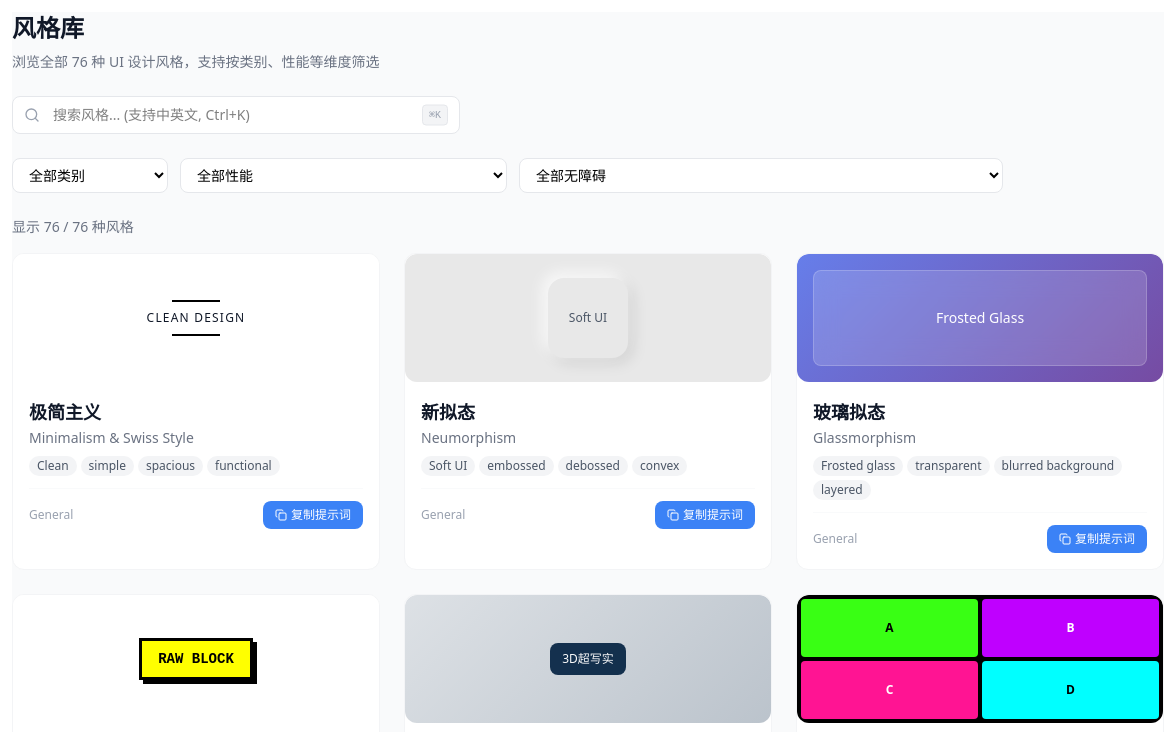
Test: StyleGallery › shows clear filter button when filter is active
The width and height of the screenshot is (1164, 732).
Select "General (49)" in the dropdown named "按类别筛选" at (90, 176), box [12,158,168,193]
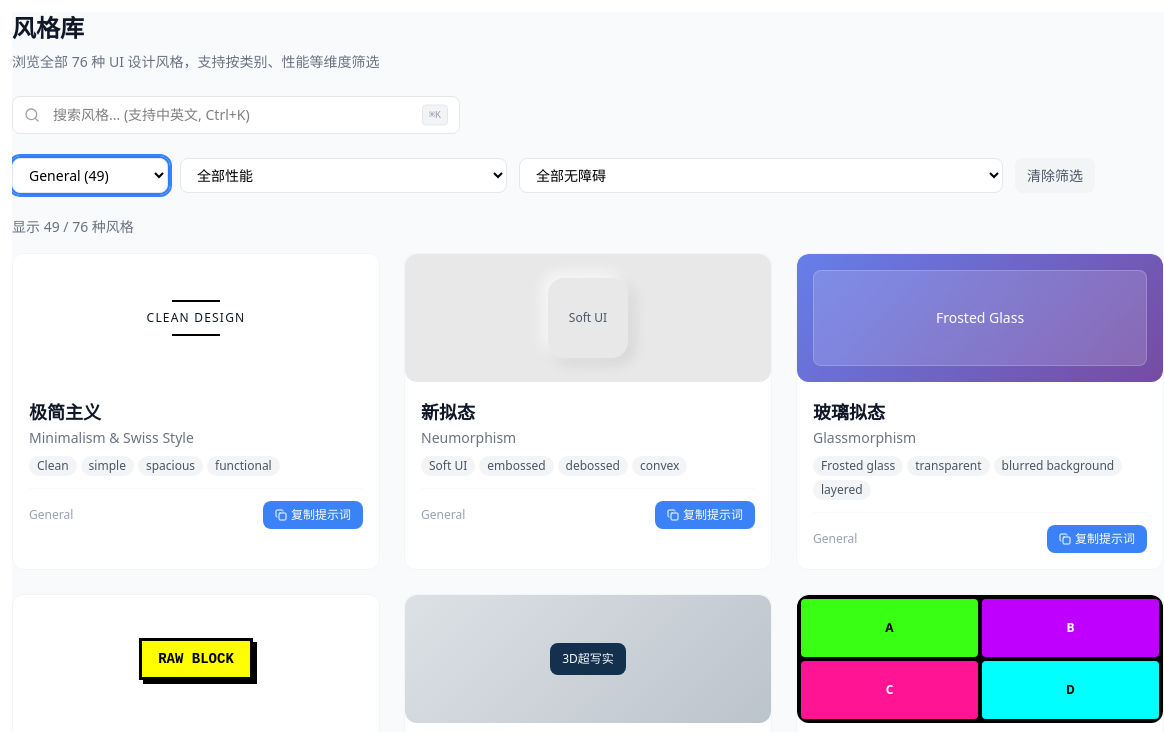
Result: the button "清除筛选" is shown at [1015,158,1095,193]
